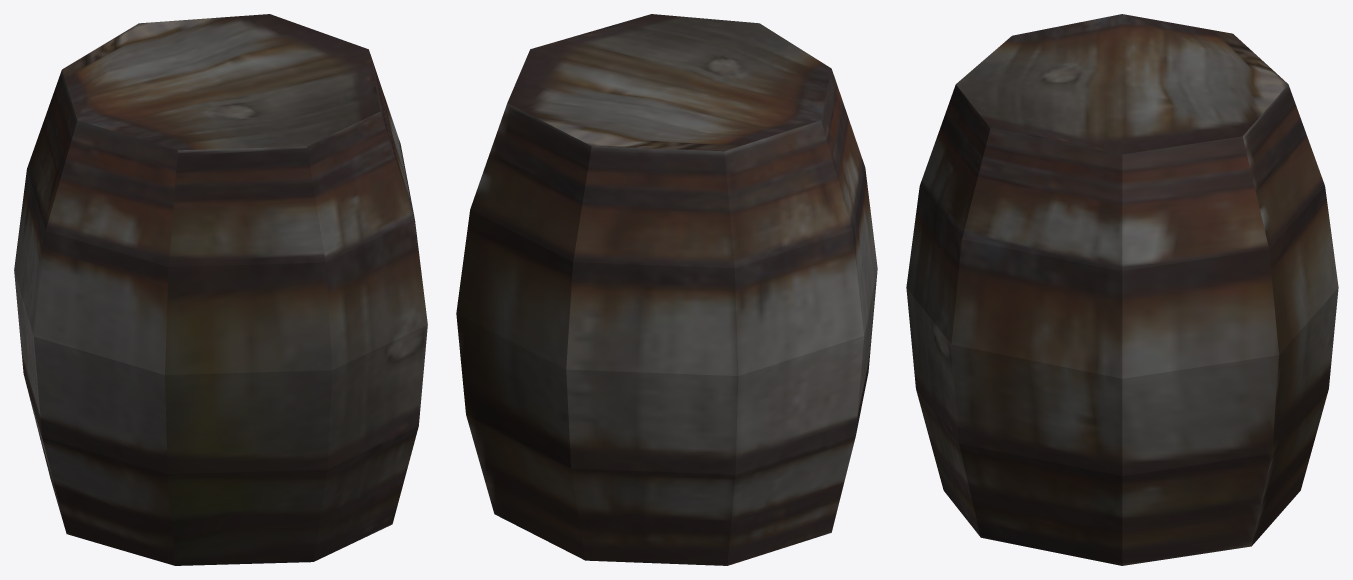
The model's file is barrel.glb.
3 views of the same model, side by side, from view 1: azimuth 30°, elevation 25°; view 2: azimuth 150°, elevation 25°; view 3: azimuth 270°, elevation 25° (orthographic).
Visible parts, largest first — view 1: Cube; view 2: Cube; view 3: Cube.
Boxes of the visible parts, bbox=[...] form: Cube: bbox=[14, 14, 427, 565]; Cube: bbox=[456, 14, 877, 565]; Cube: bbox=[906, 14, 1338, 565].
Size of the model in its own units: 1.93 by 2 by 1.93.
1 material, 1 textured.
